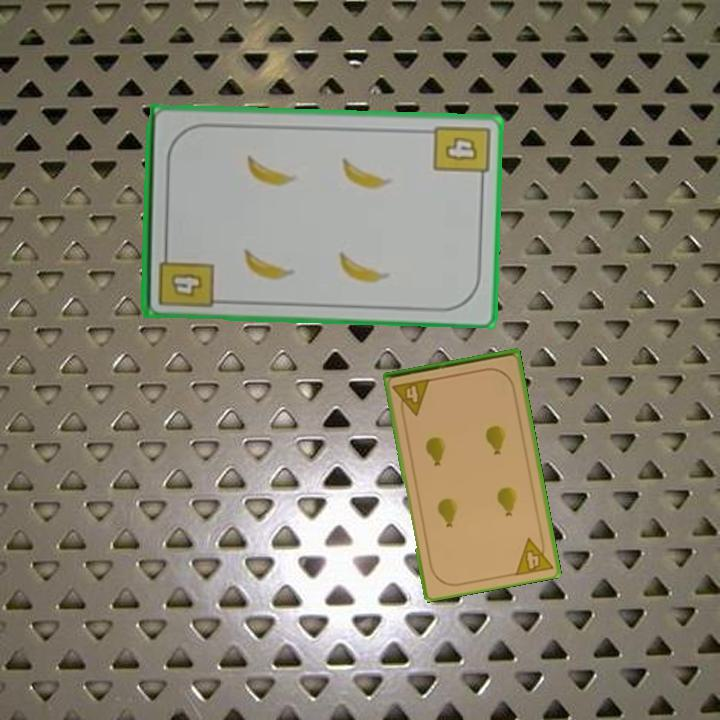4b: (154, 244, 216, 310), (430, 121, 492, 186)
4p: (511, 531, 556, 578), (389, 375, 433, 419)
